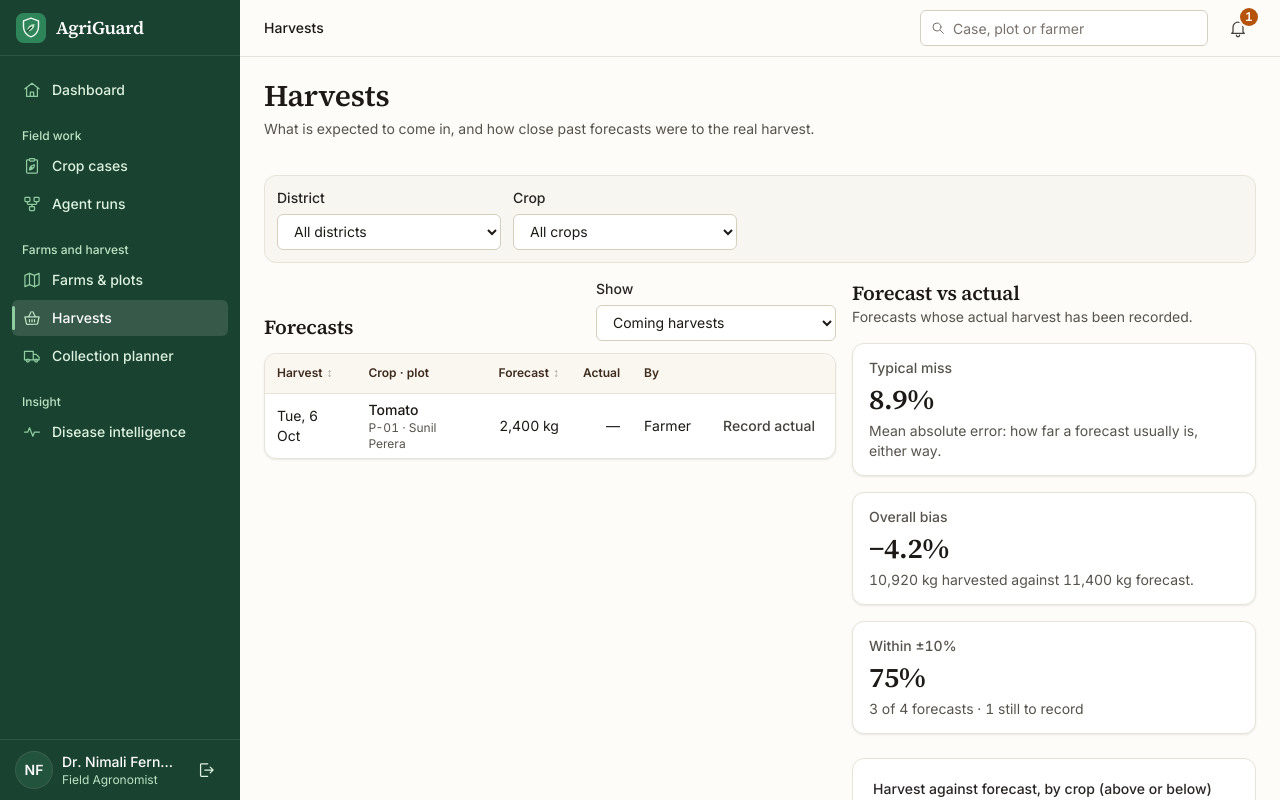
Test: HarvestPage › records the actual harvest against a forecast
Click the button with aria-label "Record the actual harvest of Tomato on P-01".
click(769, 426)  # box left=715, top=410, right=823, bottom=442
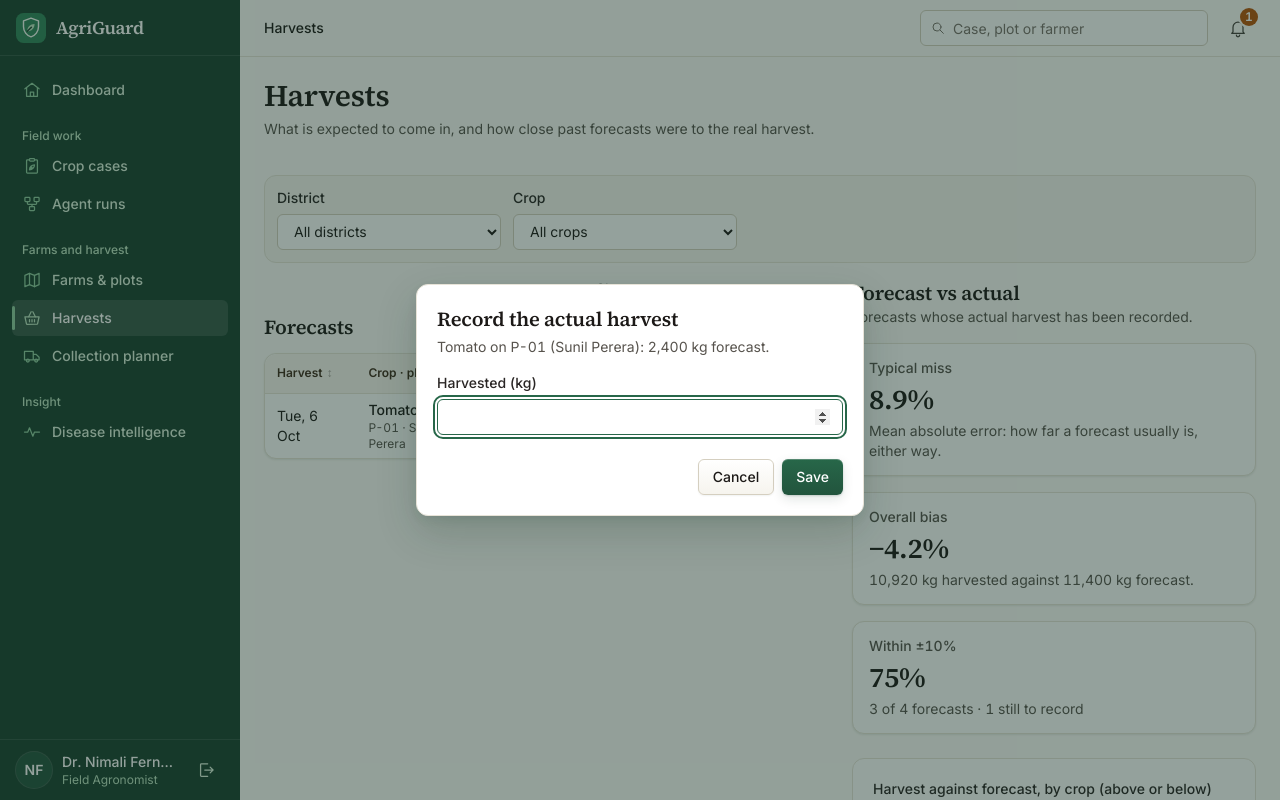
Type "2150" into the number field labelled "Harvested (kg)".
click(640, 417); type("2150")  # box left=437, top=399, right=843, bottom=435
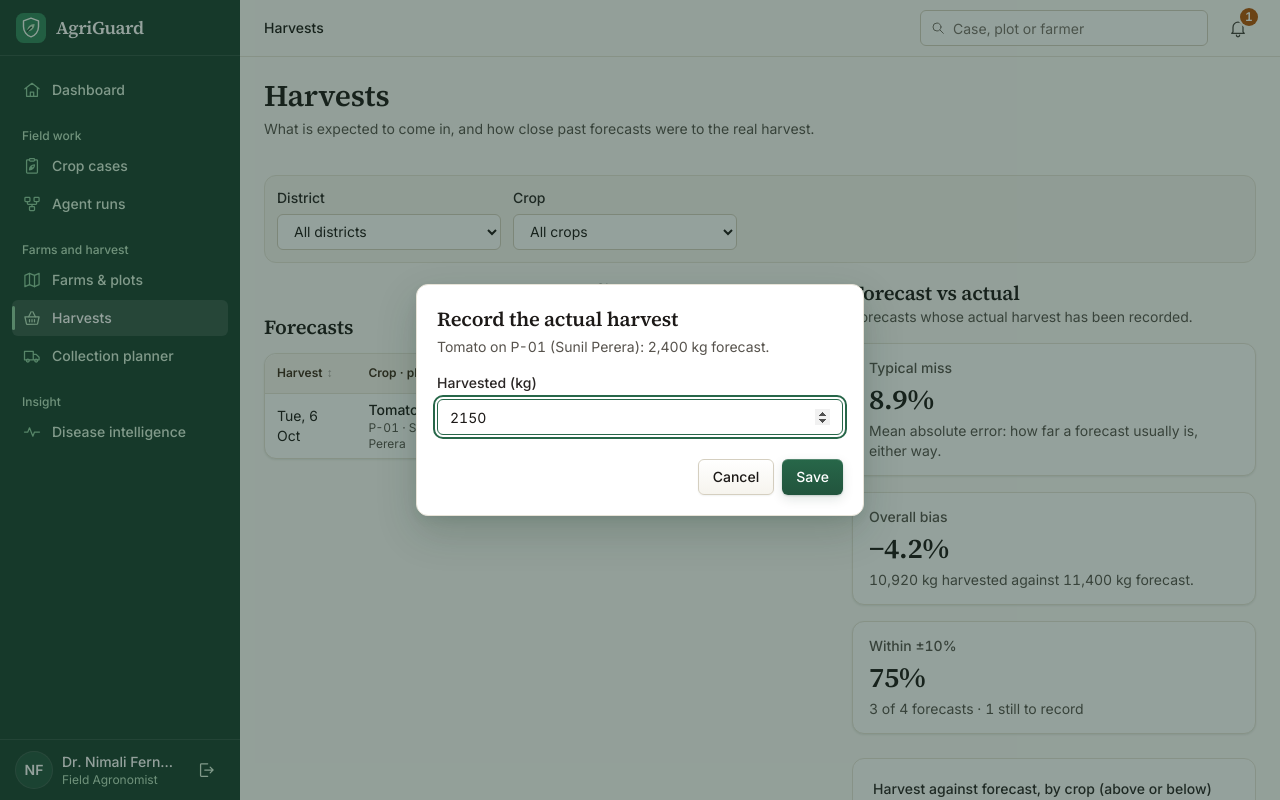
Click the button "Save".
click(813, 477)  # box left=782, top=459, right=843, bottom=495
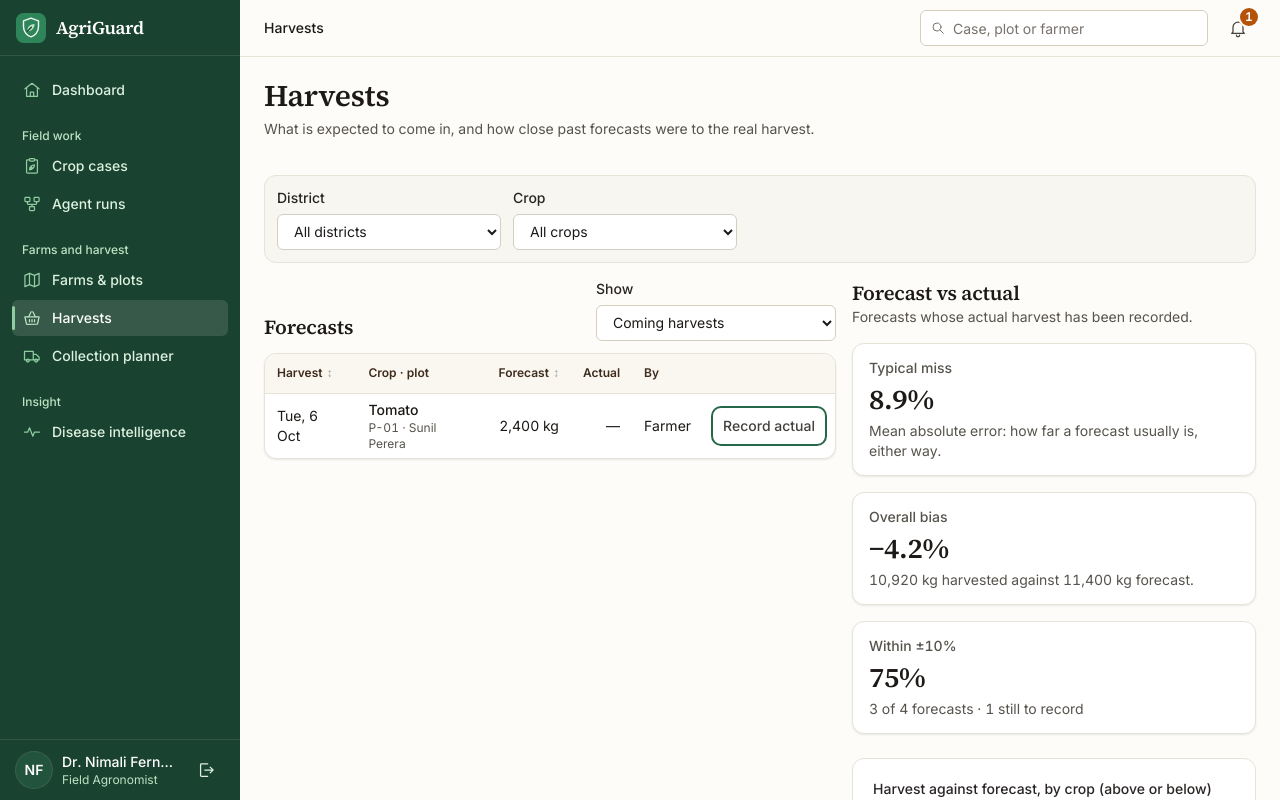
Now the dialog is gone
